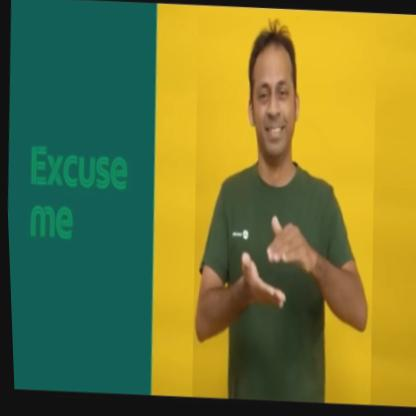ExcuseMe: (177, 13, 387, 407)
